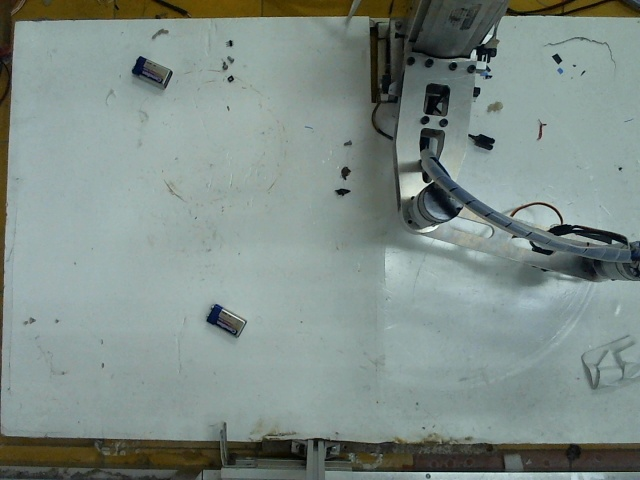battery: (202, 298, 248, 336), (129, 50, 174, 87)
